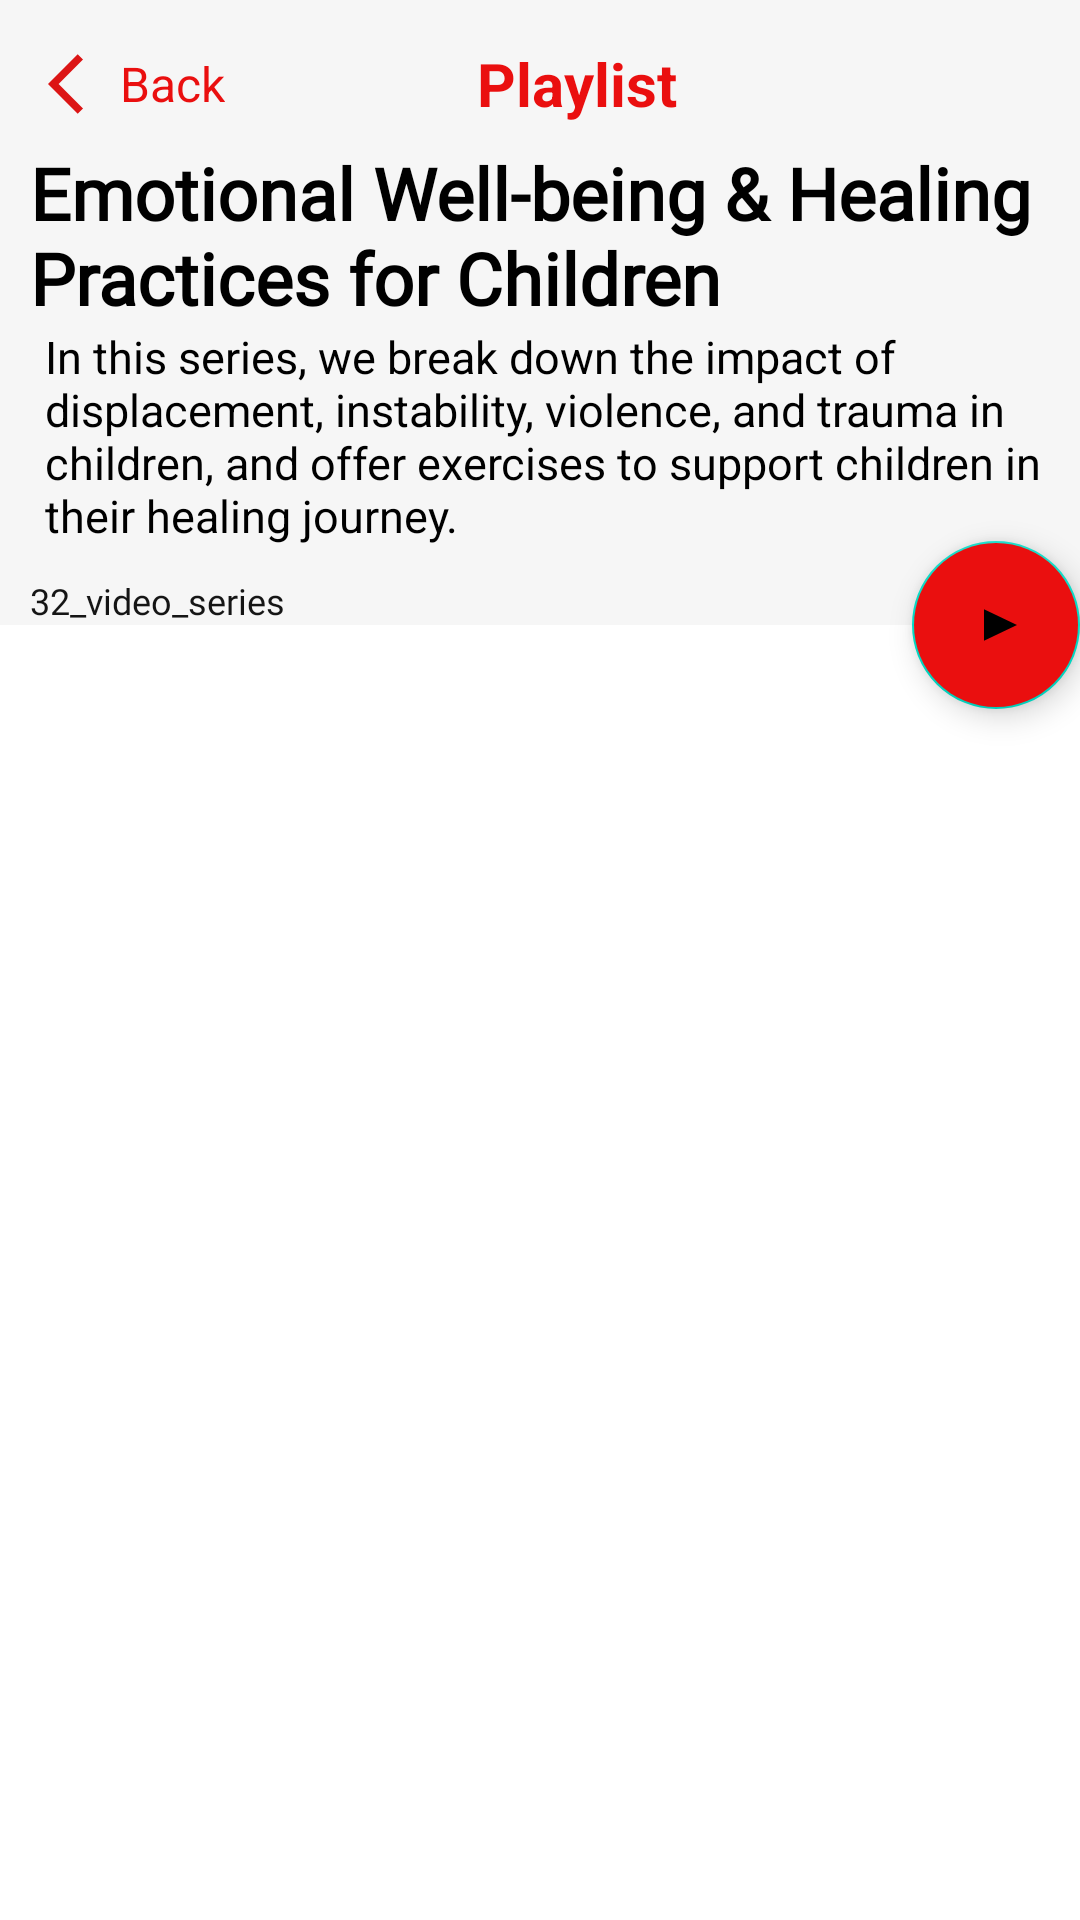

Screen size 1080x1920. Icon name, then its center in pixels as point (x, y):
play arrow: point (996, 625)
